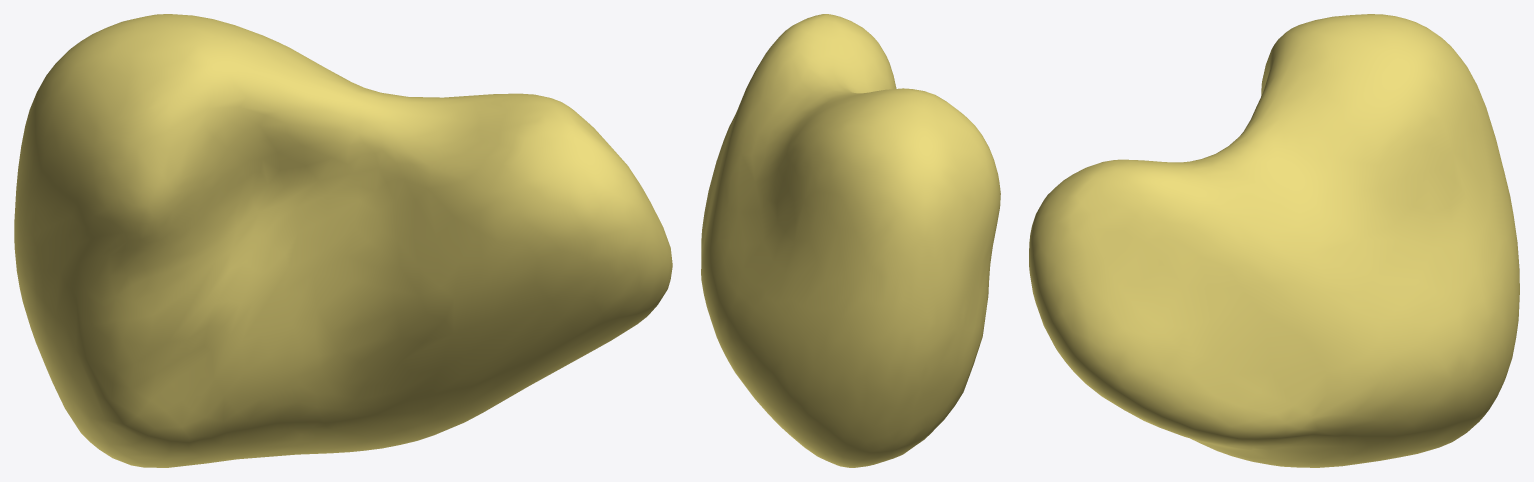
Rendered from tonsil-of-cerebellum-l.glb.
3 views of the same model, side by side, from view 1: azimuth 30°, elevation 25°; view 2: azimuth 150°, elevation 25°; view 3: azimuth 270°, elevation 25° (orthographic). The views are drawn at different scales.
Visible parts, largest first — view 1: Tonsil of cerebellum.l; view 2: Tonsil of cerebellum.l; view 3: Tonsil of cerebellum.l.
Part boxes in pixels (box(x1,y1,x2,y2)): Tonsil of cerebellum.l: box(14, 14, 672, 467); Tonsil of cerebellum.l: box(701, 14, 1000, 467); Tonsil of cerebellum.l: box(1029, 14, 1519, 467).
Size of the model in its own units: 0.0218 by 0.0205 by 0.0224.
